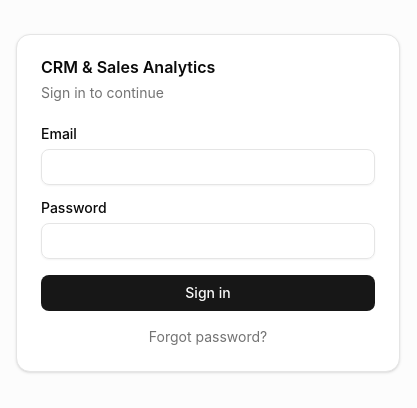
Test: LoginPage › shows a generic error message on invalid credentials
The width and height of the screenshot is (417, 408).
Type "admin@northwindsales.com" into the field labelled "Email" at (208, 167), box top-left (41, 149), bottom-right (375, 185)
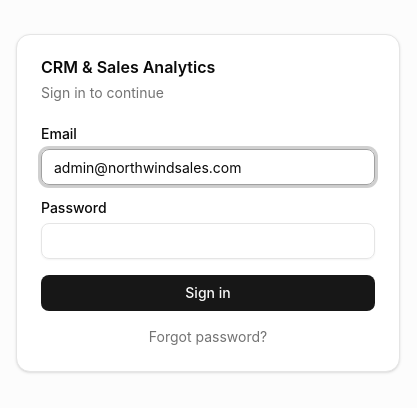
Type "wrongpassword" into the password field labelled "Password" at (208, 241), box top-left (41, 223), bottom-right (375, 259)
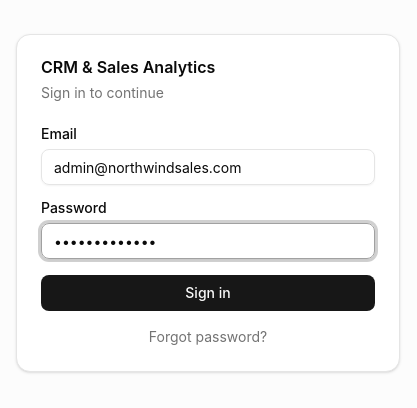
Click the button "Sign in" at (208, 293), box top-left (41, 275), bottom-right (375, 311)
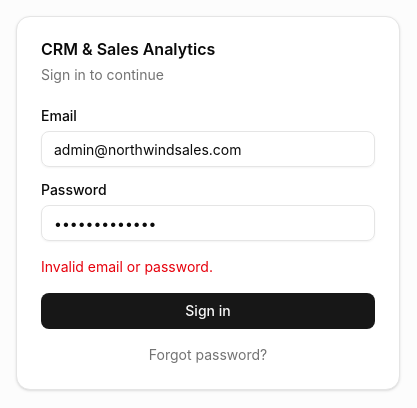
Check: the text "Invalid email or password." is shown, box top-left (41, 258), bottom-right (213, 275)
